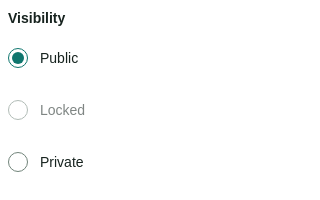
it: selection controls › selects a native radio from its label and excludes disabled choices
Later steps or results of the test are not shown.
What coordinates should you click on to do the following:
click the text "Private"
I would click on:
 (62, 162)
Its box is [40, 152, 84, 172].
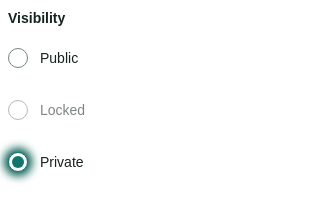
expect the radio button labelled "Private" is checked: met, box [8, 152, 28, 172]
